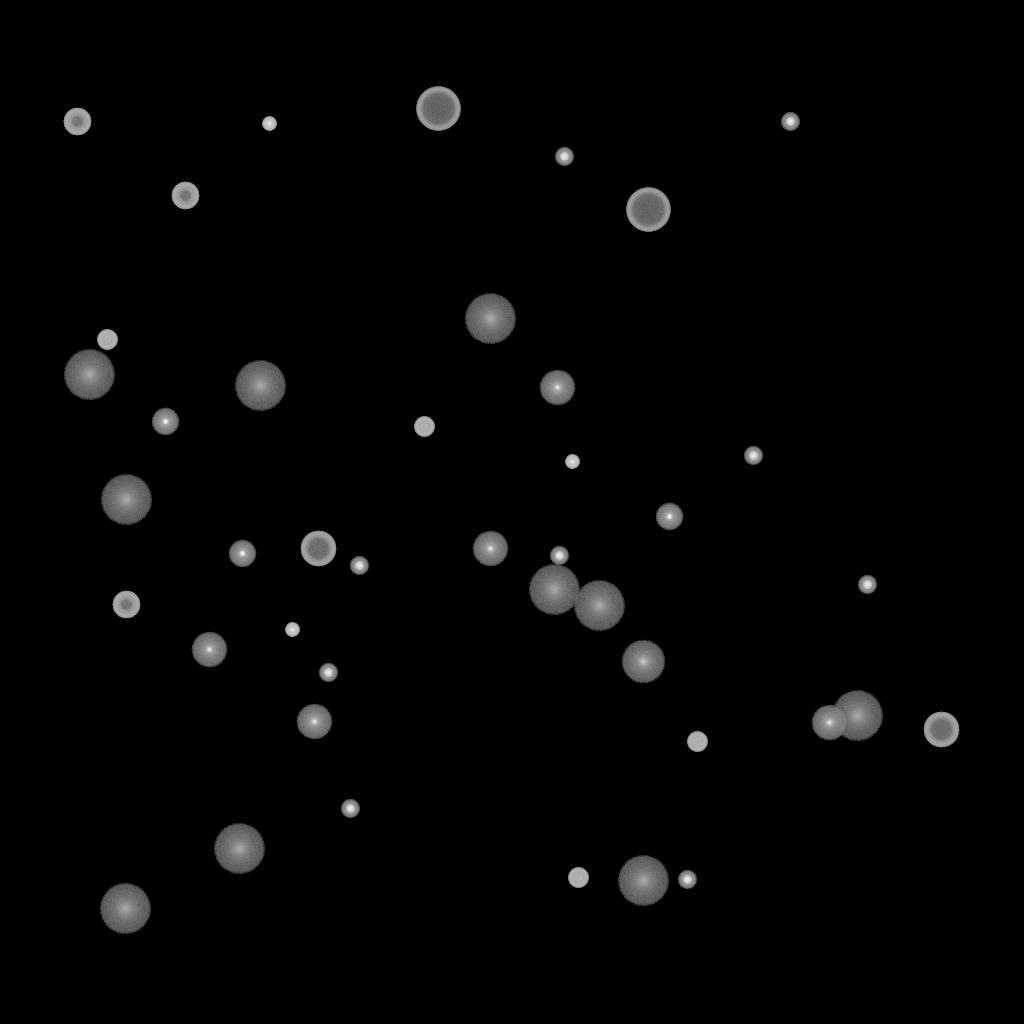depth:-10: (228, 540, 256, 568), (151, 408, 179, 436), (655, 503, 683, 531)
depth:-20: (678, 871, 696, 889), (350, 557, 368, 575), (550, 547, 568, 565), (341, 800, 359, 818), (555, 148, 573, 166), (319, 664, 337, 682), (744, 447, 762, 465), (858, 576, 876, 594), (781, 113, 799, 131)
depth:-30: (285, 623, 299, 637), (262, 117, 276, 131), (565, 455, 579, 469)
depth:-40: (687, 732, 707, 752), (414, 417, 434, 437), (568, 868, 588, 888), (97, 330, 117, 350)
depth:-50: (112, 591, 140, 619), (63, 108, 91, 136), (171, 182, 199, 210)
depth:-60: (923, 712, 959, 748), (300, 531, 336, 567)
depth:-70: (416, 87, 460, 131), (626, 188, 670, 232)
depth:0: (539, 370, 575, 406), (296, 704, 332, 740), (472, 531, 508, 567), (811, 705, 847, 741), (191, 632, 227, 668)
depth:10: (621, 640, 665, 684)
depth:20: (573, 581, 625, 631), (528, 565, 580, 615), (213, 824, 265, 874), (234, 361, 286, 411), (831, 691, 883, 741), (100, 475, 152, 525), (617, 856, 669, 906), (63, 350, 115, 400), (99, 884, 151, 934), (464, 294, 516, 344)
